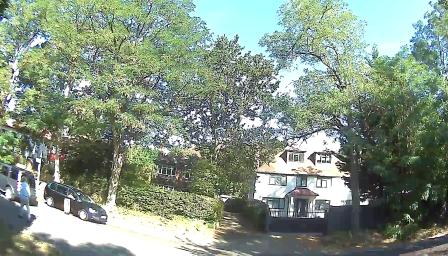Cars: (47, 178, 113, 228), (1, 158, 39, 210)
